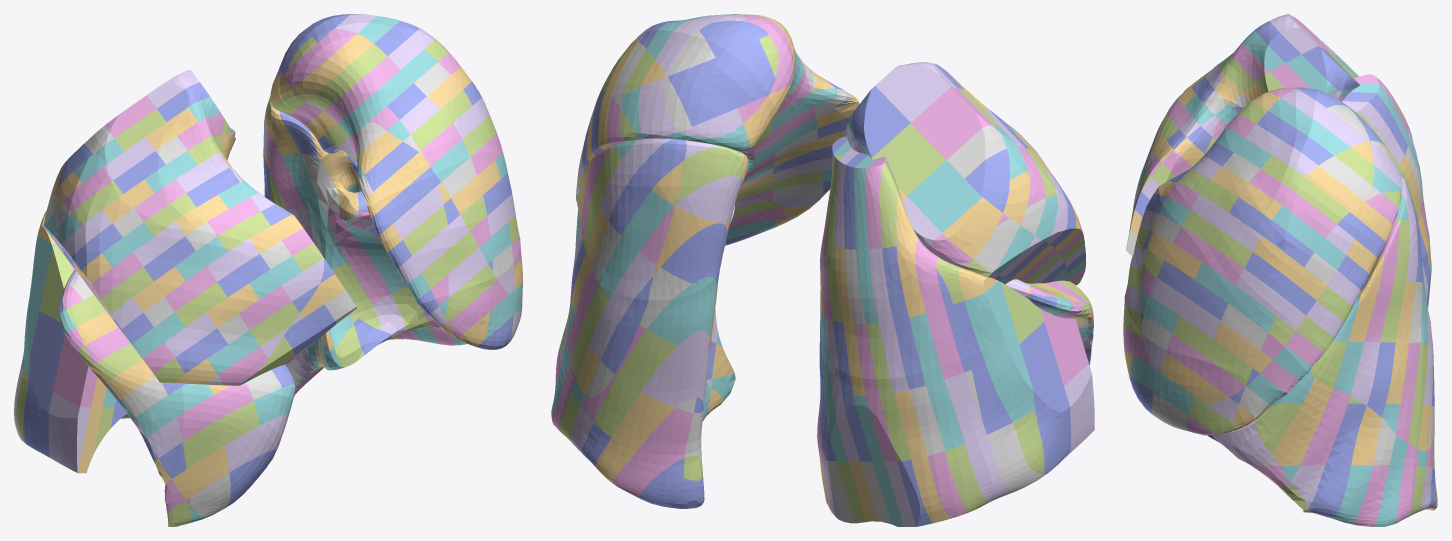
The model's file is lung-female-medium.glb.
3 renders of one model, left to right at view 1: azimuth 30°, elevation 25°; view 2: azimuth 150°, elevation 25°; view 3: azimuth 270°, elevation 25°, orthographic. The views are drawn at different scales.
Parts seen in each view (by area): view 1: RLL-1D5, RLL-1C4, RLL-1D4, RLL-1C5, LLL-9C2, RLL-1C3, LUL-10B1, LUL-11B1, RML-2A4, RML-3A4, LLL-8C2, RML-1A4 (+68 smaller); view 2: LUL-1B4, RLL-1B3, LLL-4B3, LUL-1B3, LLL-3B4, LLL-5B2, RLL-1B4, RLL-1C4, LLL-7B1, RLL-1C5, LLL-2B5, LLL-6B1 (+105 smaller); view 3: LLL-13B5, LLL-12B5, LLL-11B6, LLL-14C5, LLL-11B5, LLL-14B5, LLL-10B6, LLL-10B5, LLL-9B6, LLL-11A4, LLL-10A4, LLL-8B6 (+137 smaller).
Boxes of the visible parts, x1=… form: RLL-1D5: x1=48, y1=392, x2=90, y2=472; RLL-1C4: x1=29, y1=311, x2=64, y2=391; RLL-1D4: x1=53, y1=334, x2=97, y2=407; RLL-1C5: x1=23, y1=377, x2=52, y2=457; LLL-9C2: x1=319, y1=150, x2=359, y2=218; RLL-1C3: x1=39, y1=245, x2=72, y2=322; LUL-10B1: x1=373, y1=152, x2=430, y2=207; LUL-11B1: x1=382, y1=167, x2=438, y2=223; RML-2A4: x1=186, y1=445, x2=229, y2=496; RML-3A4: x1=182, y1=418, x2=225, y2=468; LLL-8C2: x1=300, y1=153, x2=342, y2=214; RML-1A4: x1=190, y1=472, x2=230, y2=517; LUL-1B4: x1=667, y1=58, x2=737, y2=126; RLL-1B3: x1=964, y1=281, x2=1019, y2=363; LLL-4B3: x1=647, y1=284, x2=716, y2=345; LUL-1B3: x1=716, y1=39, x2=775, y2=107; LLL-3B4: x1=641, y1=345, x2=706, y2=407; LLL-5B2: x1=661, y1=223, x2=727, y2=284; RLL-1B4: x1=986, y1=344, x2=1035, y2=422; RLL-1C4: x1=1019, y1=321, x2=1063, y2=409; LLL-7B1: x1=675, y1=146, x2=743, y2=204; RLL-1C5: x1=1035, y1=387, x2=1070, y2=473; LLL-2B5: x1=635, y1=408, x2=693, y2=469; LLL-6B1: x1=675, y1=176, x2=741, y2=222; LLL-13B5: x1=1272, y1=403, x2=1326, y2=465; LLL-12B5: x1=1300, y1=403, x2=1347, y2=465; LLL-11B6: x1=1308, y1=465, x2=1350, y2=517; LLL-14C5: x1=1213, y1=419, x2=1271, y2=466; LLL-11B5: x1=1325, y1=403, x2=1366, y2=465; LLL-14B5: x1=1254, y1=403, x2=1302, y2=453; LLL-10B6: x1=1329, y1=465, x2=1372, y2=523; LLL-10B5: x1=1351, y1=406, x2=1381, y2=465; LLL-9B6: x1=1351, y1=465, x2=1389, y2=526; LLL-11A4: x1=1350, y1=342, x2=1380, y2=403; LLL-10A4: x1=1367, y1=342, x2=1395, y2=403; LLL-8B6: x1=1373, y1=465, x2=1403, y2=526.
Bounding box in the file's own units: 0.2511 × 0.223 × 0.1526.
